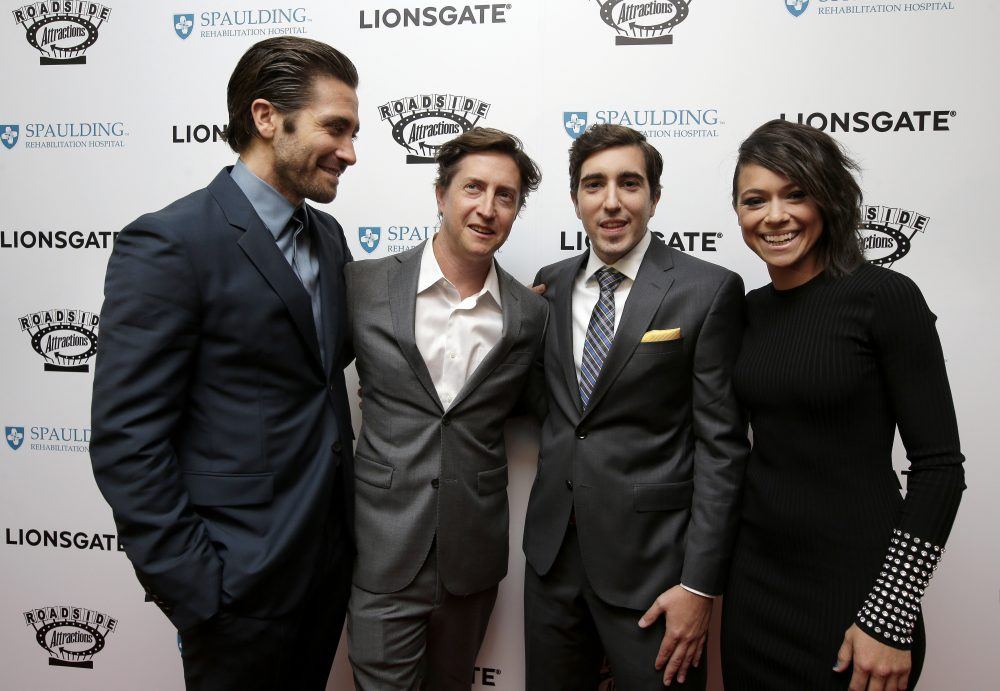Person: (110, 10, 355, 691), (715, 125, 940, 685), (530, 135, 715, 691), (380, 130, 525, 691)
